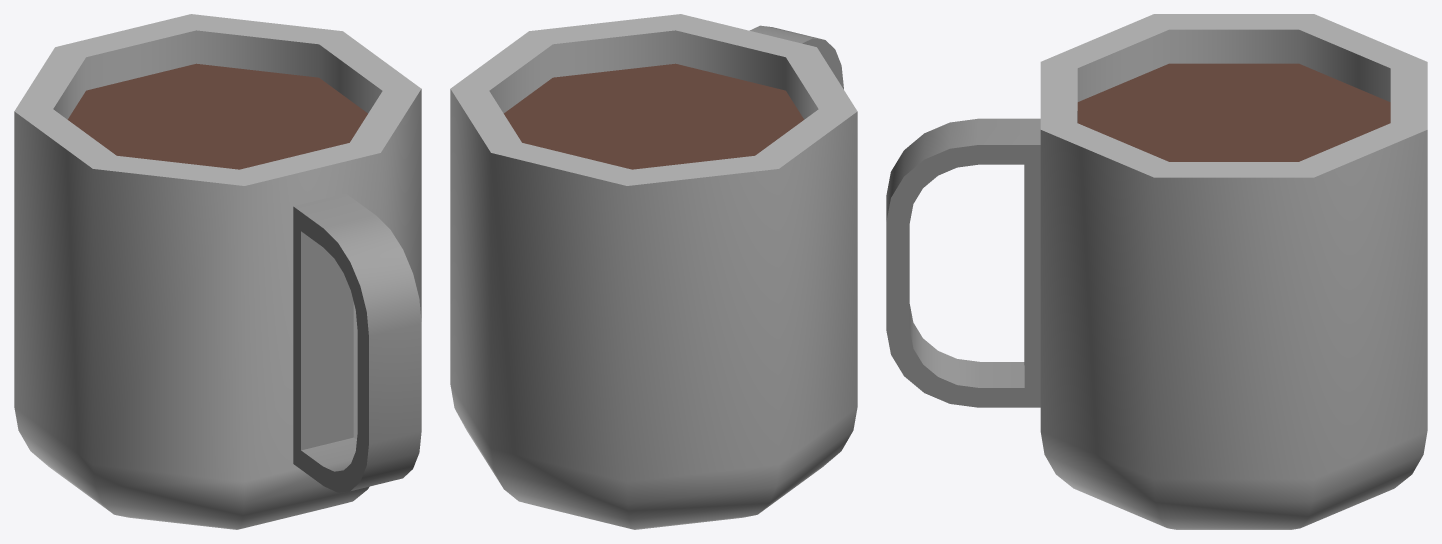
Rendered from Glass.fbx.
3 views of the same model, side by side, from view 1: azimuth 30°, elevation 25°; view 2: azimuth 150°, elevation 25°; view 3: azimuth 270°, elevation 25° (orthographic).
Visible parts, largest first — view 1: Glass; view 2: Glass; view 3: Glass.
Part boxes in pixels (x1=…): Glass: x1=14, y1=14, x2=421, y2=529; Glass: x1=450, y1=14, x2=857, y2=529; Glass: x1=886, y1=14, x2=1427, y2=529.
Bounding box in the file's own units: 0.0551 × 0.077 × 0.0596.
